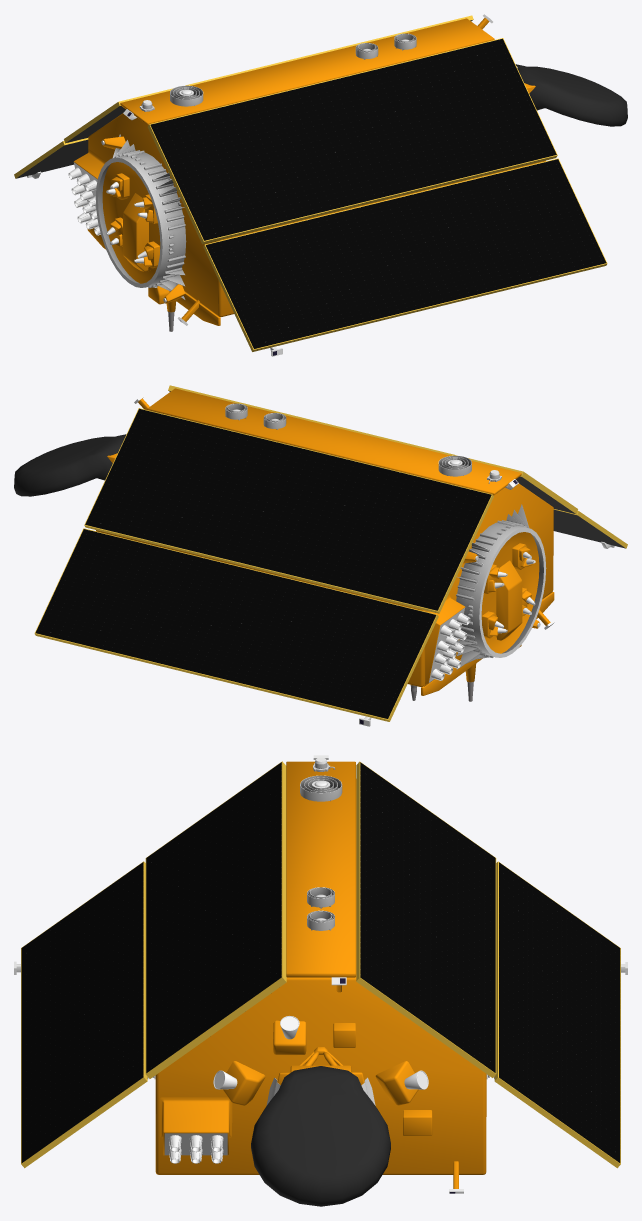
Rendered from bio.glb.
3 views of the same model, one above another, from view 1: azimuth 30°, elevation 25°; view 2: azimuth 150°, elevation 25°; view 3: azimuth 270°, elevation 25° (orthographic). The views are drawn at different scales.
Parts seen in each view (by area): view 1: BUS; view 2: BUS; view 3: BUS.
Boxes of the visible parts, bbox=[...] form: BUS: bbox=[14, 14, 627, 356]; BUS: bbox=[14, 385, 627, 726]; BUS: bbox=[14, 755, 627, 1206].
Bounding box in the file's own units: 5.13 × 2.32 × 4.37.
17 materials, 4 textured.
